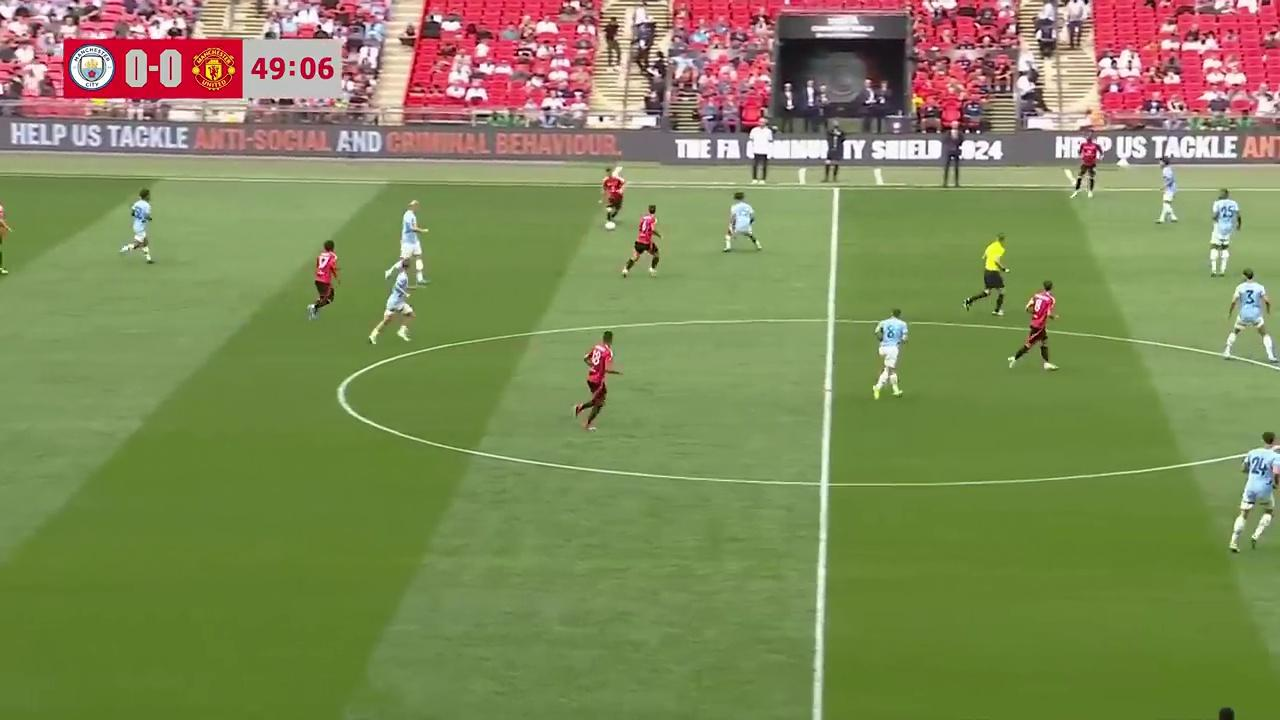ball: (606, 221, 617, 231)
player: (1226, 433, 1280, 553), (573, 331, 622, 431), (1222, 269, 1274, 363), (1007, 280, 1060, 372), (368, 257, 416, 345), (871, 307, 908, 401), (620, 203, 665, 279), (119, 188, 156, 265), (1209, 187, 1240, 276), (399, 200, 429, 282), (309, 239, 340, 318), (722, 192, 762, 251), (1069, 135, 1100, 199), (599, 168, 625, 229), (1156, 159, 1178, 223), (0, 195, 12, 276)
referee: (963, 233, 1009, 315)
